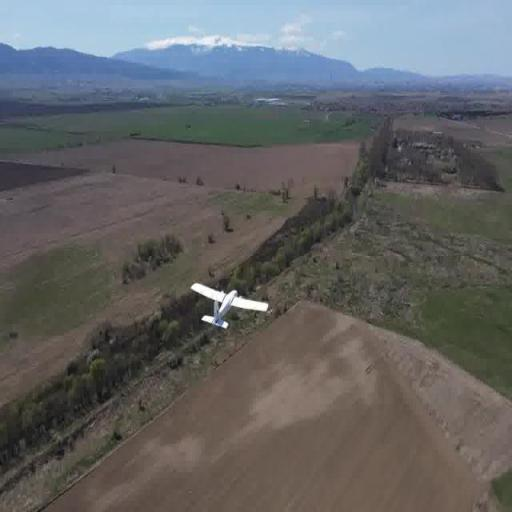uav: (189, 278, 272, 336)
